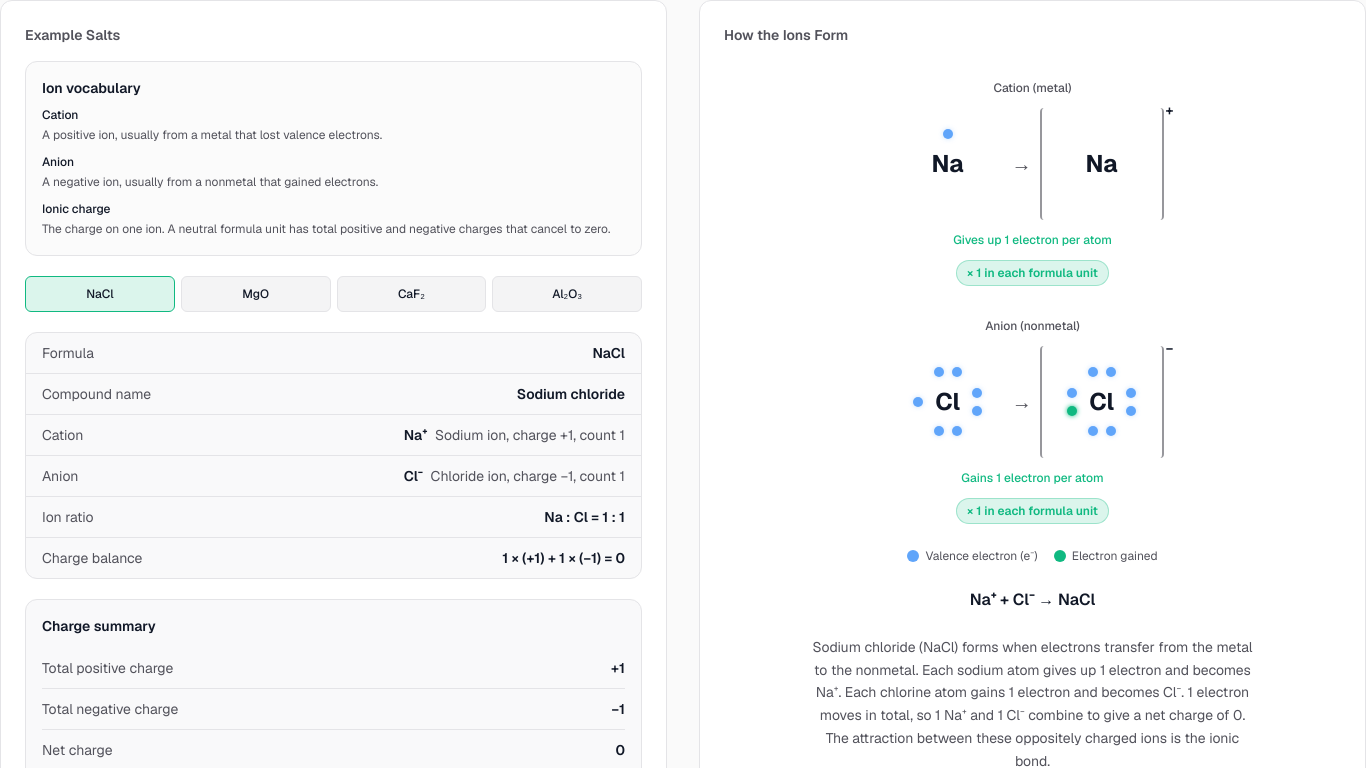
Test case: IonicCompoundExplorer › shows matching details for Magnesium oxide
Click the button with aria-label "Magnesium oxide, MgO": (256, 294) left=181, top=276, right=331, bottom=312
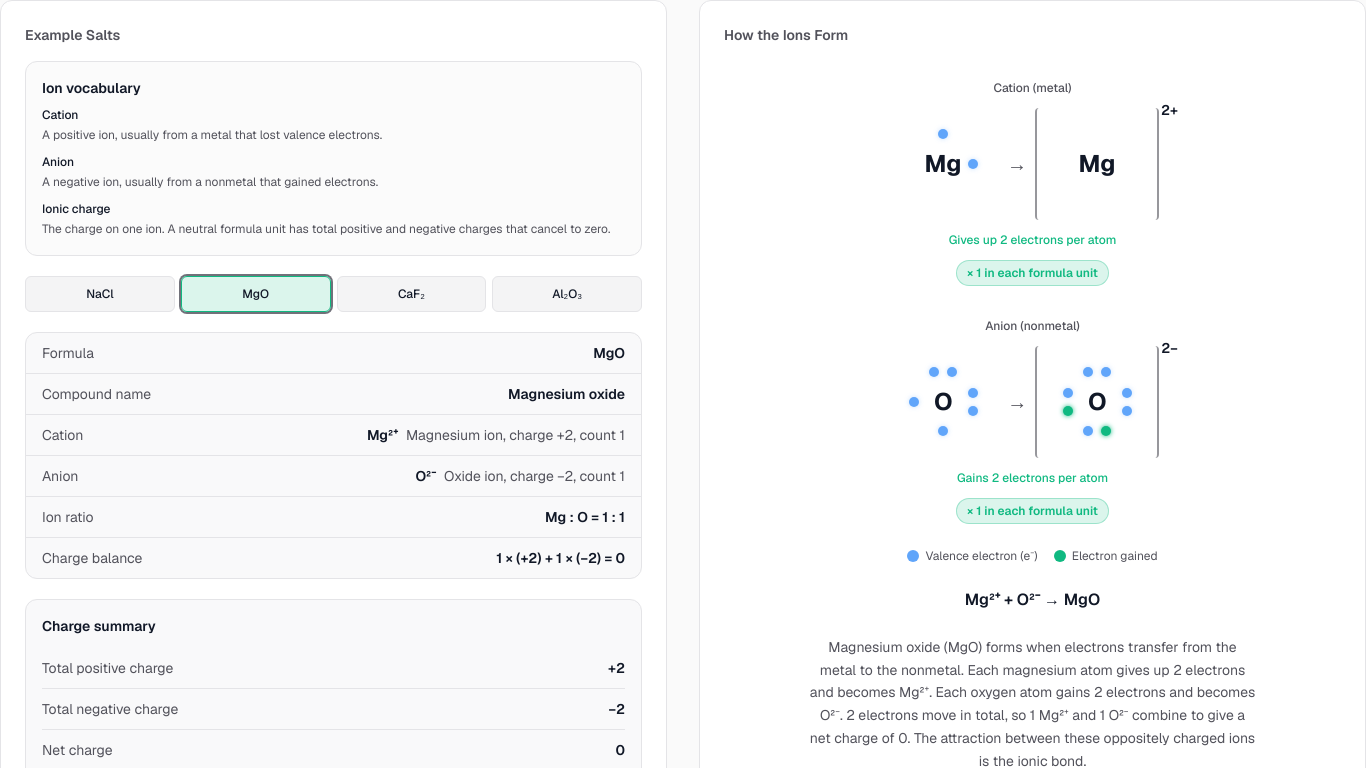
Expected: the text "0" is shown, left=615, top=740, right=625, bottom=760
Expected: the text "Magnesium oxide" is shown, left=508, top=384, right=625, bottom=404
Expected: the text "Mg : O = 1 : 1" is shown, left=545, top=507, right=625, bottom=527
